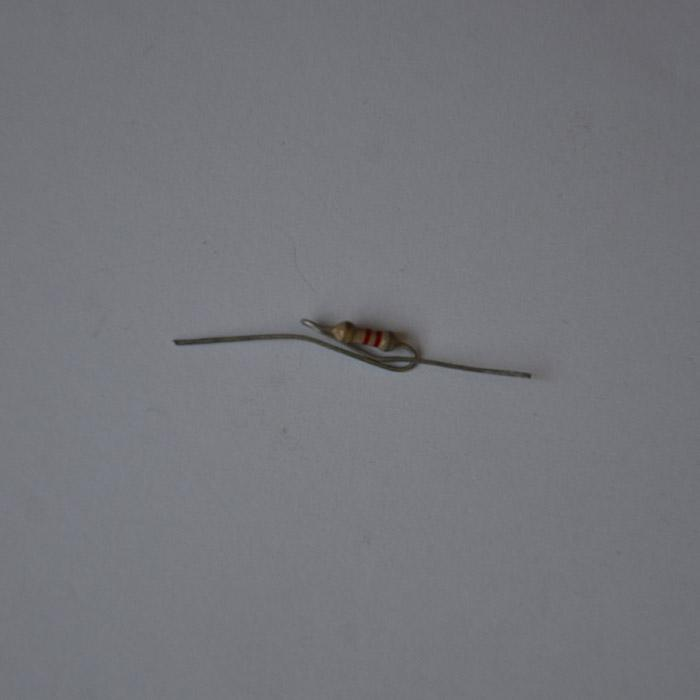resistor: (327, 321, 397, 351)
